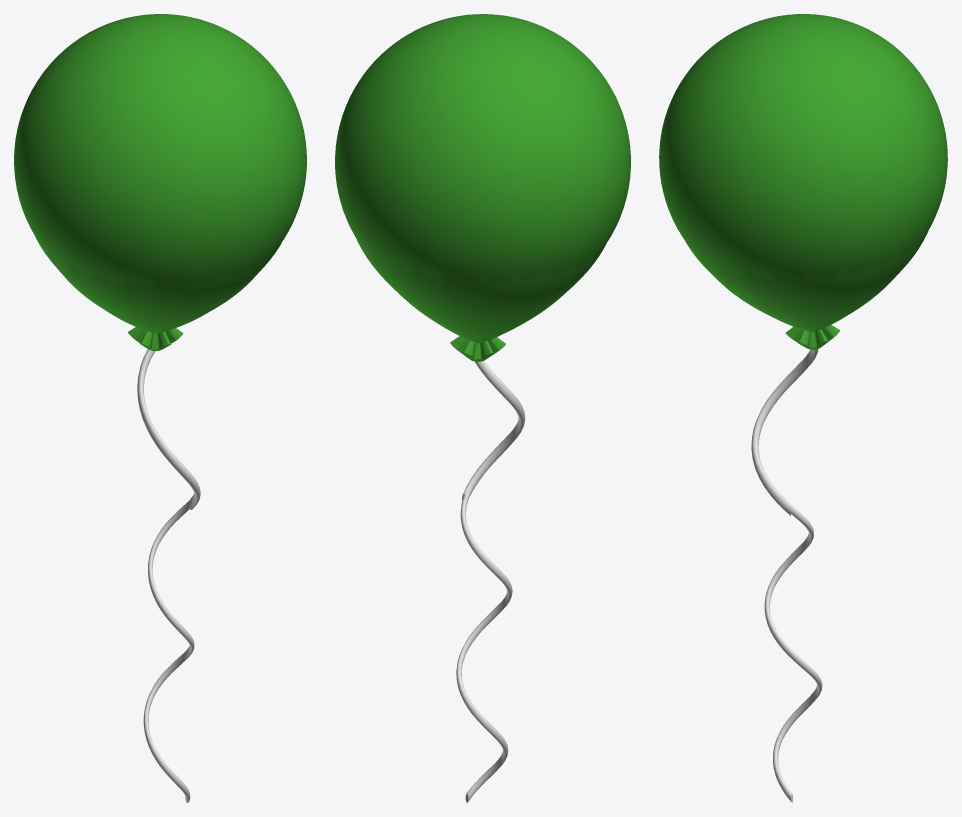
The model's file is balloon-2.glb.
3 views of the same model, side by side, from view 1: azimuth 30°, elevation 25°; view 2: azimuth 150°, elevation 25°; view 3: azimuth 270°, elevation 25° (orthographic). The views are drawn at different scales.
Parts seen in each view (by area): view 1: group_0_15277357_group_0_15277357Mat_0.001, group_0_6383466_group_0_6383466Mat_0.001; view 2: group_0_15277357_group_0_15277357Mat_0.001, group_0_6383466_group_0_6383466Mat_0.001; view 3: group_0_15277357_group_0_15277357Mat_0.001, group_0_6383466_group_0_6383466Mat_0.001.
Part boxes in pixels (bbox=[...]): group_0_15277357_group_0_15277357Mat_0.001: bbox=[14, 14, 306, 350]; group_0_6383466_group_0_6383466Mat_0.001: bbox=[137, 349, 200, 802]; group_0_15277357_group_0_15277357Mat_0.001: bbox=[335, 14, 630, 361]; group_0_6383466_group_0_6383466Mat_0.001: bbox=[456, 361, 525, 802]; group_0_15277357_group_0_15277357Mat_0.001: bbox=[659, 14, 947, 349]; group_0_6383466_group_0_6383466Mat_0.001: bbox=[751, 349, 822, 802].
Size of the model in its own units: 0.6252 by 1.83 by 0.625.
